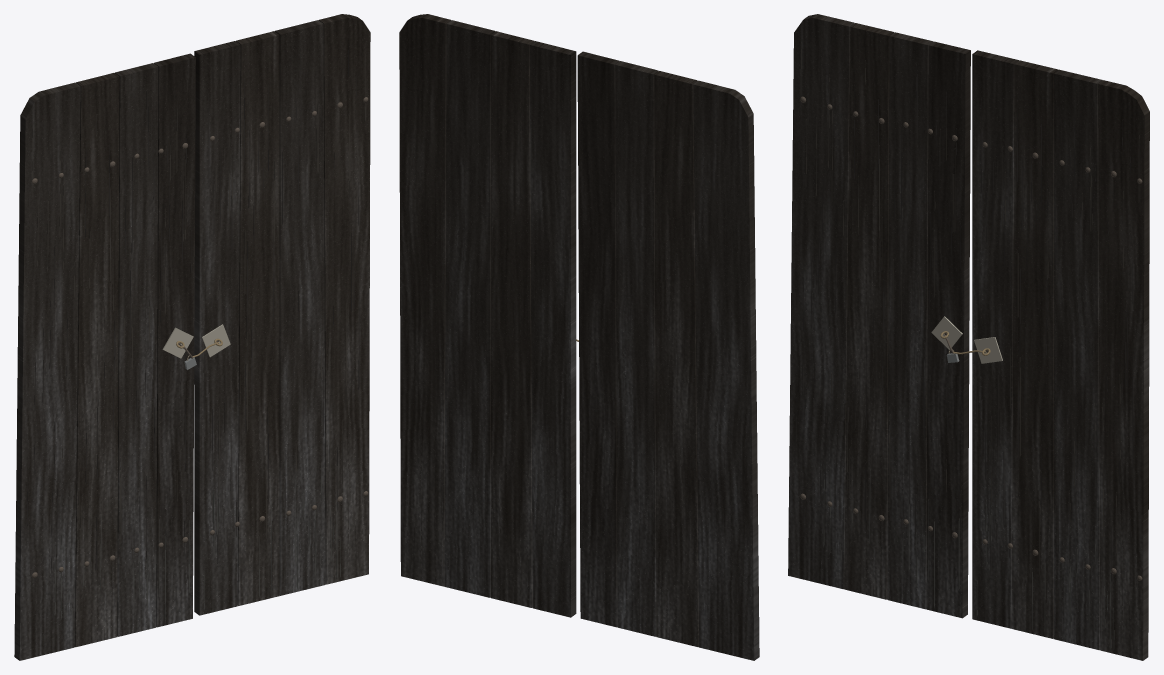
The model's file is pudong-lian-hongsheng-house-paired-plank-doors-web.glb.
3 renders of one model, left to right at view 1: azimuth 30°, elevation 25°; view 2: azimuth 150°, elevation 25°; view 3: azimuth 330°, elevation 25°, orthographic.
Parts seen in each view (by area): view 1: 连宏生宅石库门双扇木门与斜角锁牌; view 2: 连宏生宅石库门双扇木门与斜角锁牌; view 3: 连宏生宅石库门双扇木门与斜角锁牌.
Boxes of the visible parts, x1,y1,x2,y2 form: 连宏生宅石库门双扇木门与斜角锁牌: (14,14,370,660); 连宏生宅石库门双扇木门与斜角锁牌: (399,14,759,660); 连宏生宅石库门双扇木门与斜角锁牌: (788,14,1149,660).
Bounding box in the file's own units: 1.66 × 2.52 × 0.0945.
11 materials, 3 textured.
